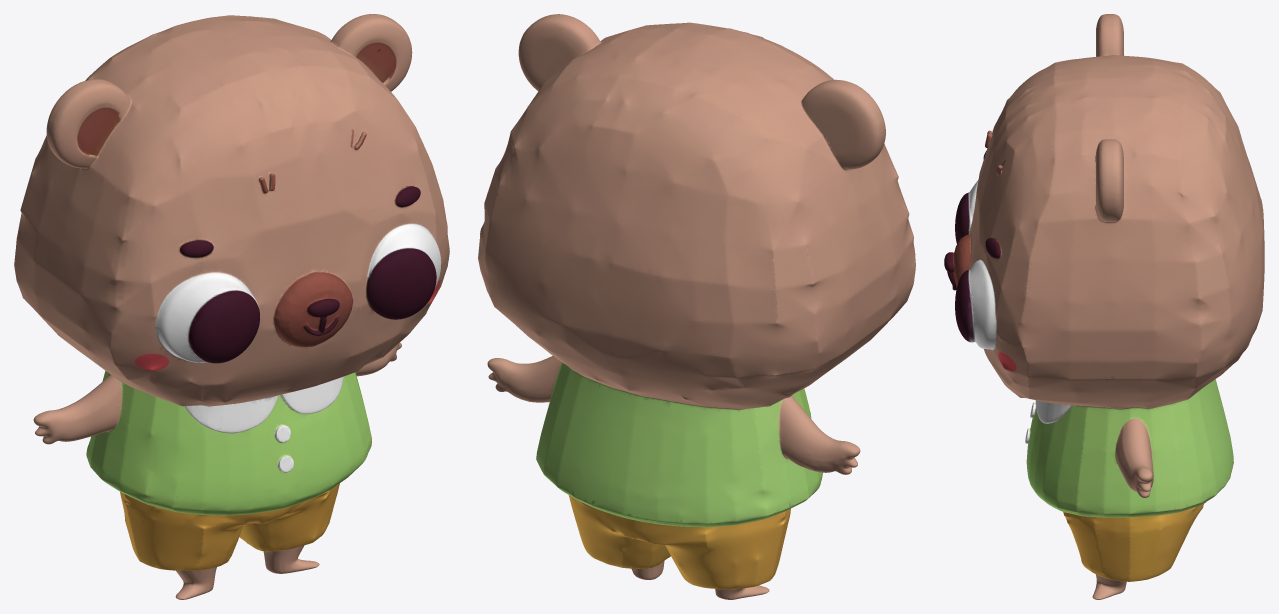
The model's file is bear.glb.
The picture shows the model from 3 angles, left to right: view 1: azimuth 30°, elevation 25°; view 2: azimuth 150°, elevation 25°; view 3: azimuth 270°, elevation 25°; orthographic projection. The views are drawn at different scales.
Bounding box in the file's own units: 1.37 × 1.9 × 1.12.
Materials: 1 (1 with a texture image).
